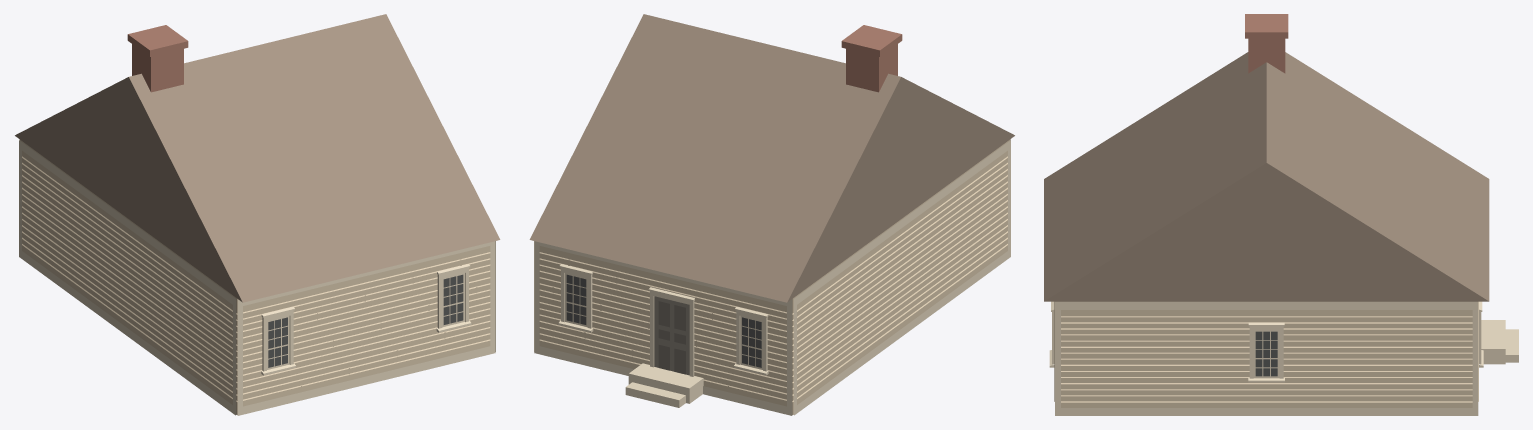
File: recon_1835_blk_randolph_franklin_d5_02__inferred_1835.glb
The picture shows the model from 3 angles, left to right: view 1: azimuth 30°, elevation 25°; view 2: azimuth 150°, elevation 25°; view 3: azimuth 270°, elevation 25°; orthographic projection. The views are drawn at different scales.
Visible parts, largest first — view 1: recon_1835_blk_randolph_franklin_d5_02__inferred_1835; view 2: recon_1835_blk_randolph_franklin_d5_02__inferred_1835; view 3: recon_1835_blk_randolph_franklin_d5_02__inferred_1835.
Boxes of the visible parts, x1=… form: recon_1835_blk_randolph_franklin_d5_02__inferred_1835: x1=15, y1=14, x2=500, y2=415; recon_1835_blk_randolph_franklin_d5_02__inferred_1835: x1=529, y1=14, x2=1014, y2=415; recon_1835_blk_randolph_franklin_d5_02__inferred_1835: x1=1044, y1=14, x2=1518, y2=415.
Bounding box in the file's own units: 6.72 × 7.09 × 10.76.
